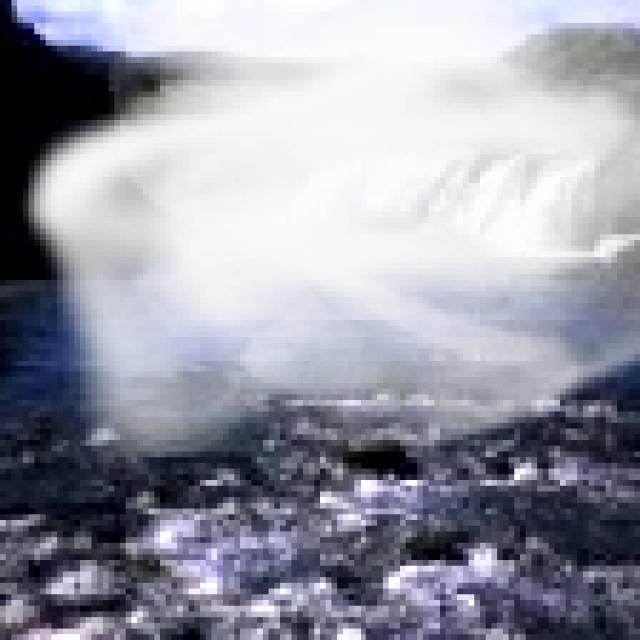smoke: (17, 0, 640, 480)
